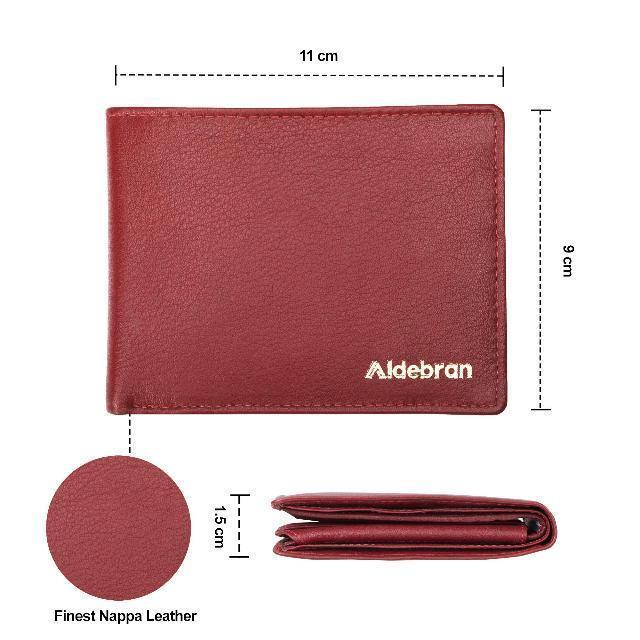wallet: (100, 100, 510, 420), (261, 488, 561, 568)
